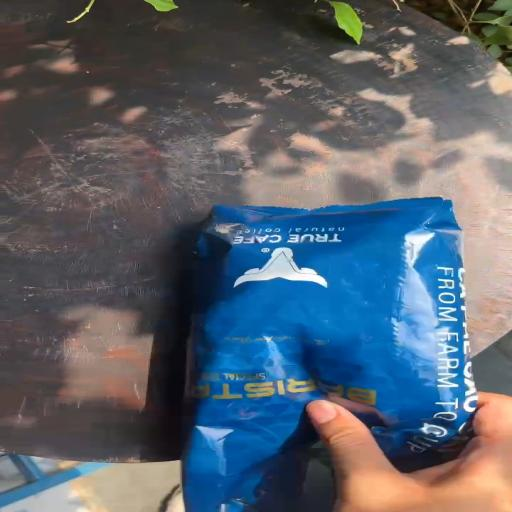cafe_hat: (182, 197, 476, 512)
